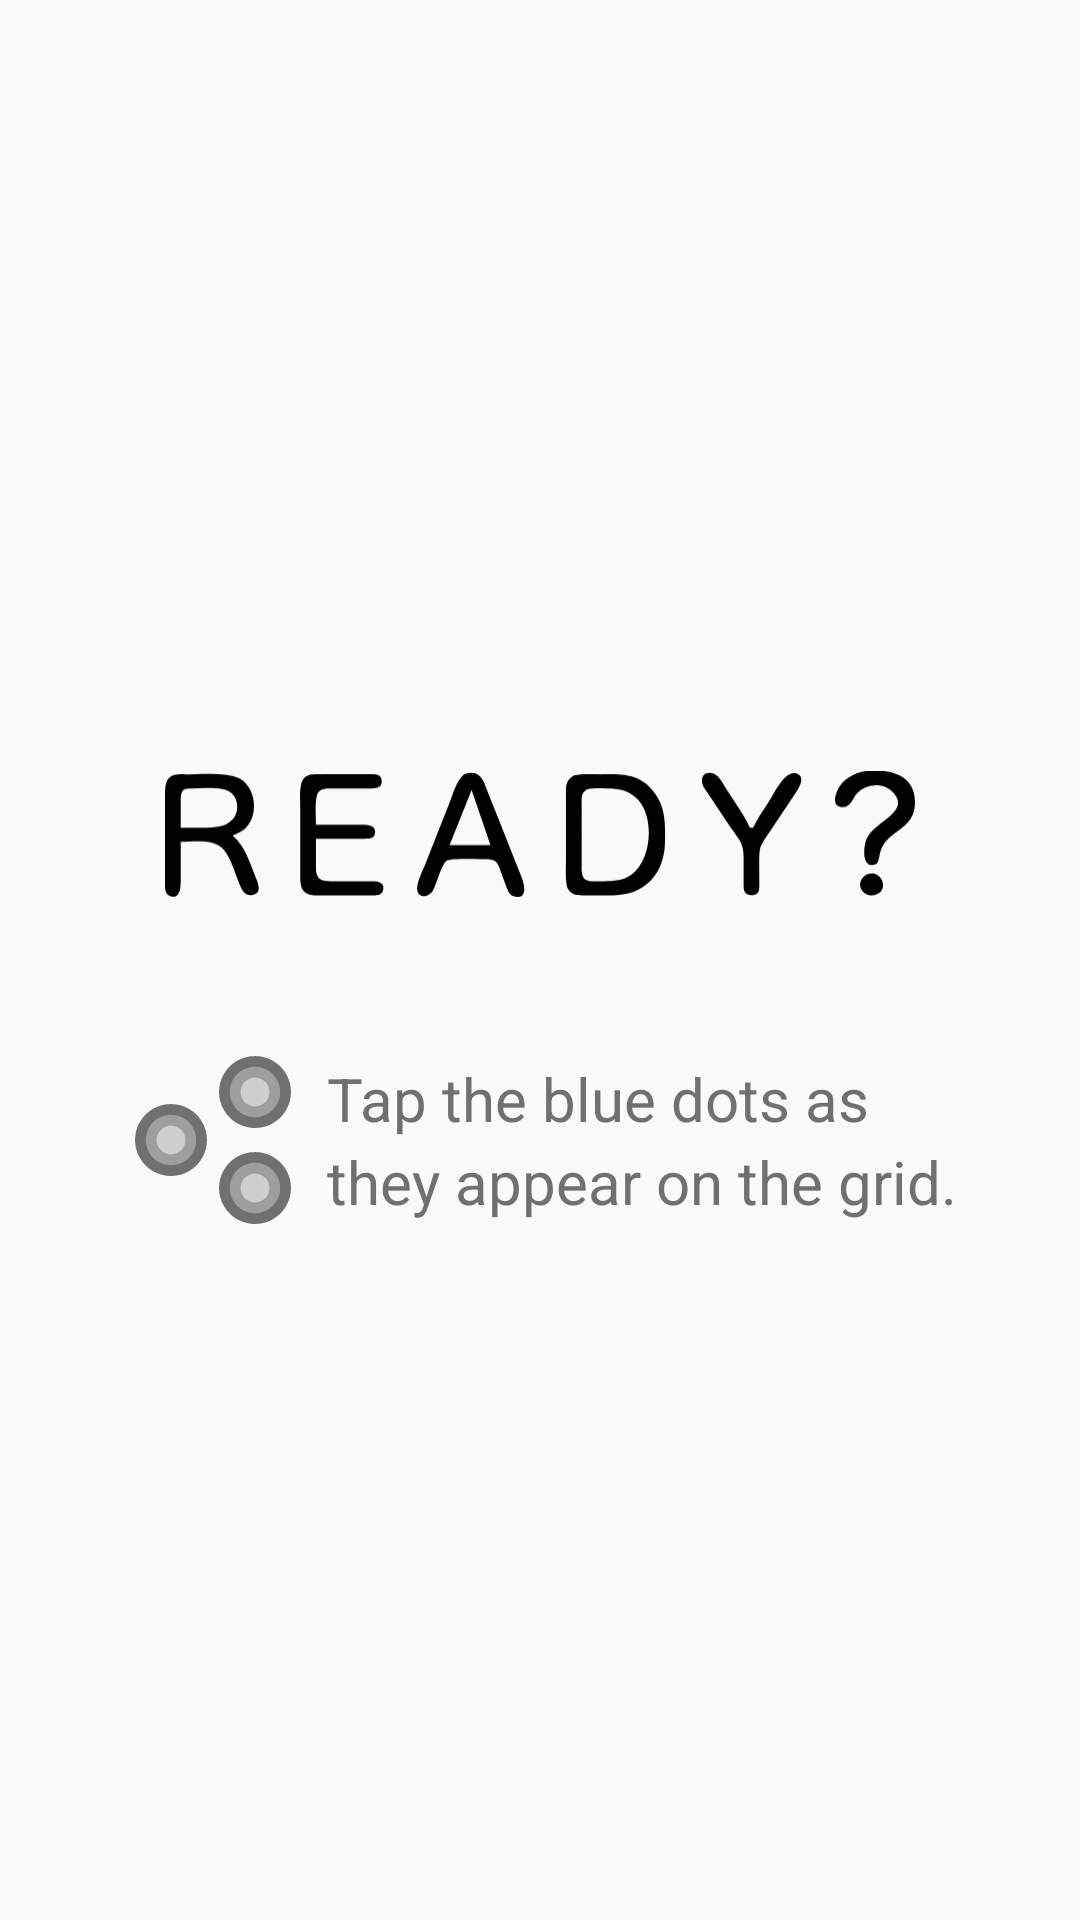

Icon bounding boxes for this 1080w x 1920h phone screenshot, format (x1, y1, x2, y2):
dot sprite: (219, 1056, 291, 1128), (135, 1104, 207, 1176), (219, 1152, 291, 1224)
